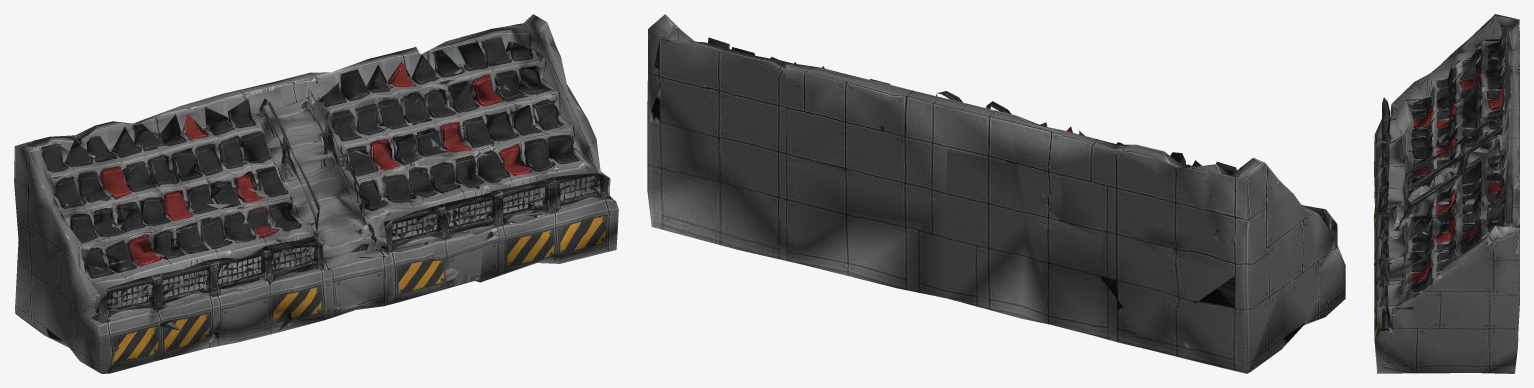
Rendered from arena_stands.glb.
3 renders of one model, left to right at view 1: azimuth 30°, elevation 25°; view 2: azimuth 150°, elevation 25°; view 3: azimuth 270°, elevation 25°, orthographic. The views are drawn at different scales.
Parts seen in each view (by area): view 1: mesh_node; view 2: mesh_node; view 3: mesh_node.
Part boxes in pixels (x1=…): mesh_node: x1=14, y1=14, x2=618, y2=373; mesh_node: x1=647, y1=14, x2=1345, y2=373; mesh_node: x1=1374, y1=14, x2=1519, y2=373.
Size of the model in its own units: 1.9 by 0.6118 by 0.5461.
1 material, 1 textured.
